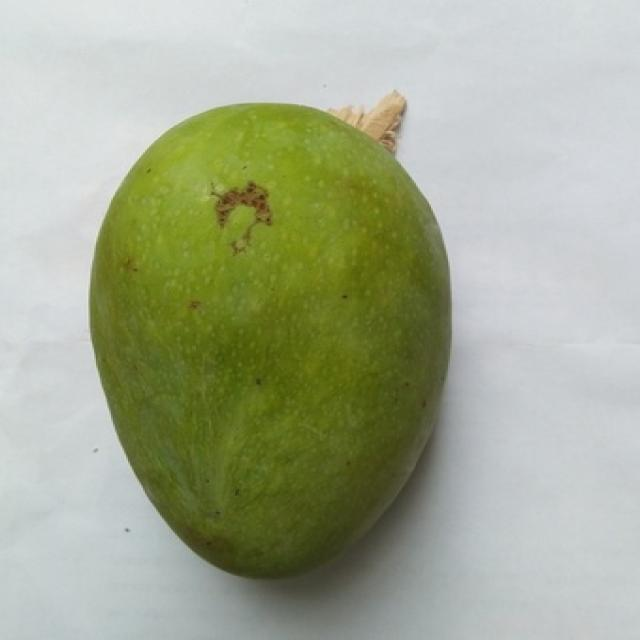Mango: (90, 104, 446, 576)
